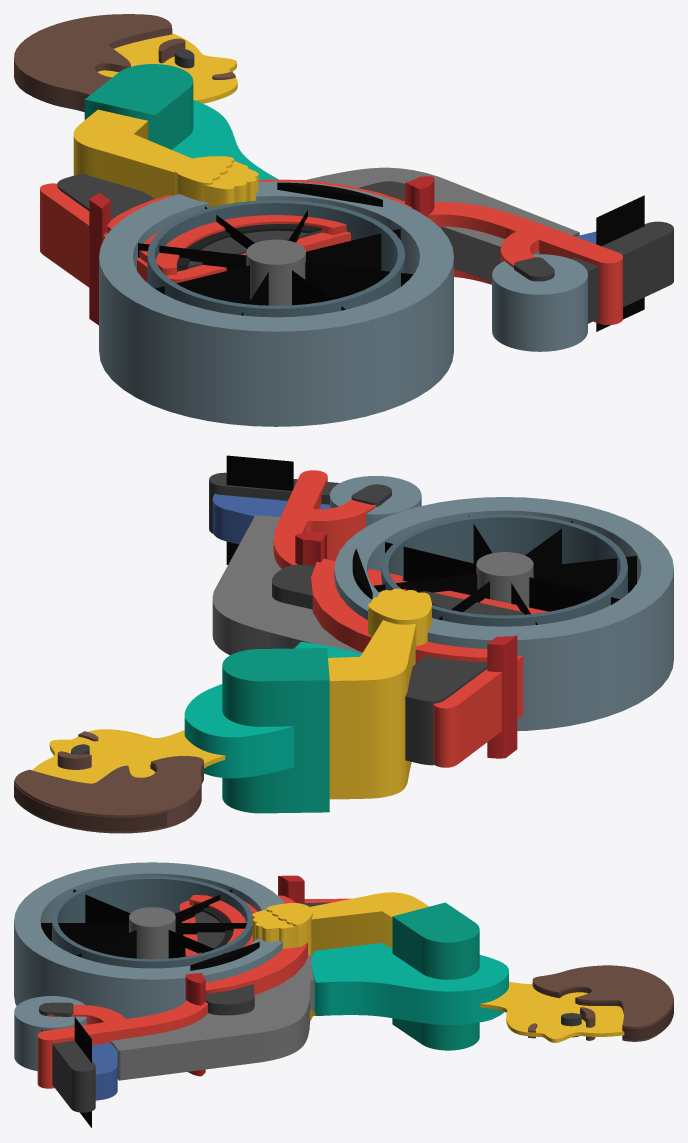
The model's file is emoji_u1f468_200d_1f9bd_200d_27a1.glb.
The picture shows the model from 3 angles, top to bottom: view 1: azimuth 30°, elevation 25°; view 2: azimuth 150°, elevation 25°; view 3: azimuth 270°, elevation 25°; orthographic projection. The views are drawn at different scales.
Visible parts, largest first — view 1: emoji_u1f468_200d_1f9bd_200d_27a1; view 2: emoji_u1f468_200d_1f9bd_200d_27a1; view 3: emoji_u1f468_200d_1f9bd_200d_27a1.
Part boxes in pixels (bbox=[...]): emoji_u1f468_200d_1f9bd_200d_27a1: bbox=[14, 14, 673, 426]; emoji_u1f468_200d_1f9bd_200d_27a1: bbox=[14, 455, 673, 833]; emoji_u1f468_200d_1f9bd_200d_27a1: bbox=[14, 862, 673, 1127].
Bounding box in the file's own units: 0.0222 × 0.0058 × 0.0321.
